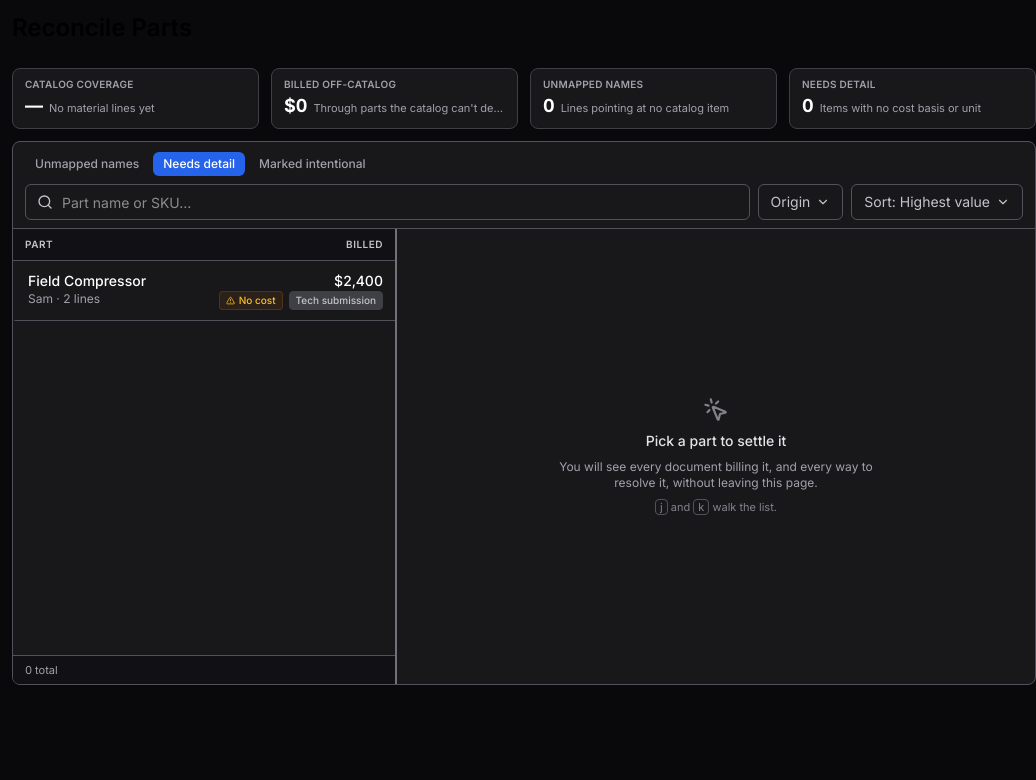
InventoryReconcilePage — provisional verbs › names the gaps that keep the row off the catalog
The width and height of the screenshot is (1036, 780).
Click the button "Field Compressor" at (87, 280), box [13,261,395,321]
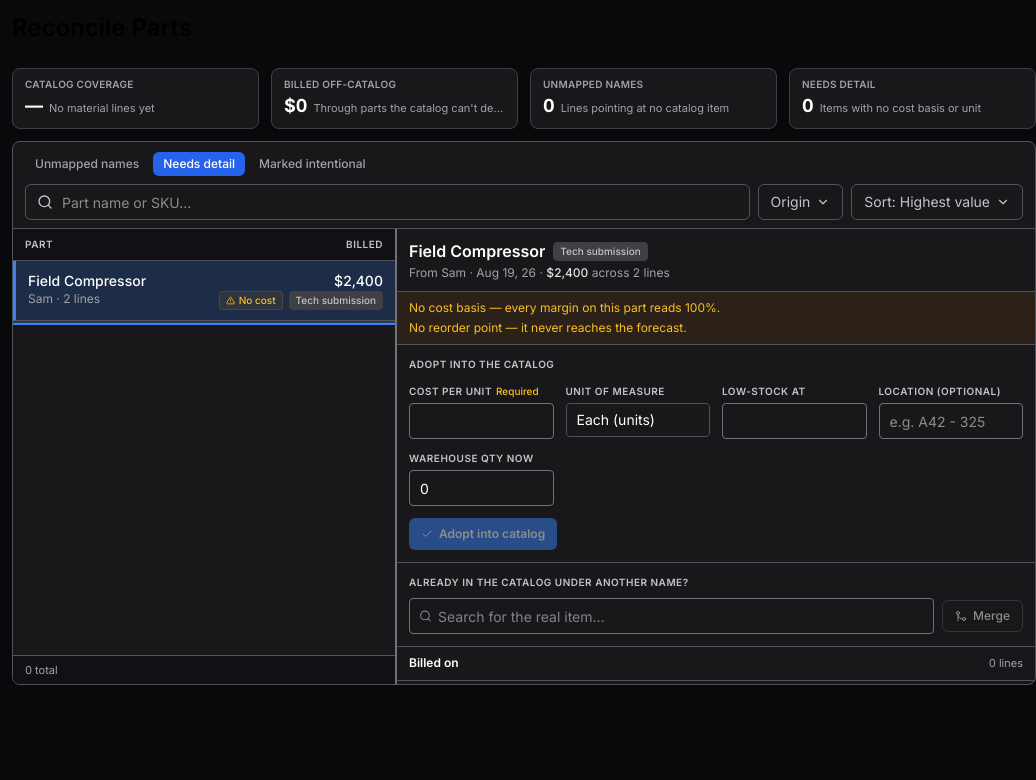
Expected: the list item "No cost basis — every margin on this part reads 100%." is shown, [409,300,720,315]
Expected: the list item "No reorder point — it never reaches the forecast." is shown, [409,320,687,335]
